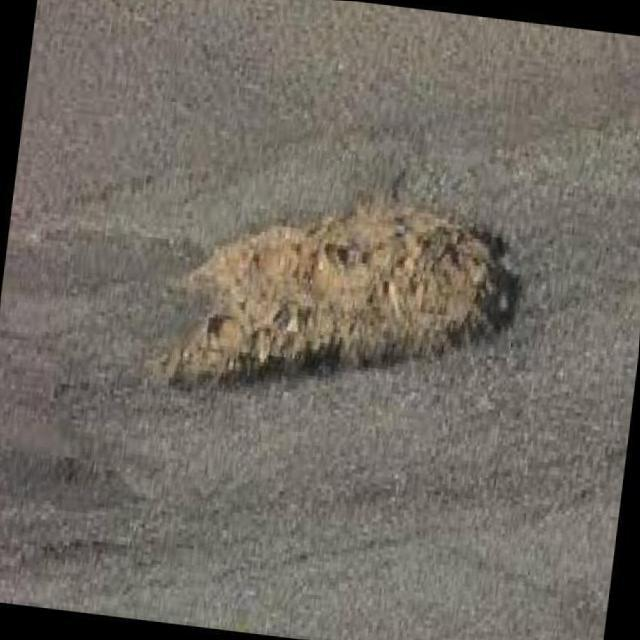pothole: (147, 178, 538, 414)
